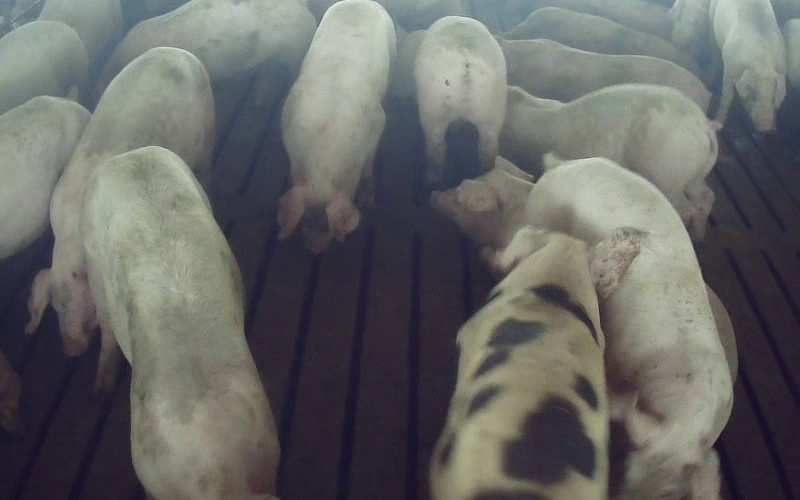pig: (525, 158, 731, 499), (83, 146, 278, 499), (27, 48, 214, 355), (431, 227, 640, 499), (500, 84, 717, 238), (391, 16, 506, 183), (101, 0, 315, 85), (499, 39, 710, 110), (710, 0, 785, 131)
